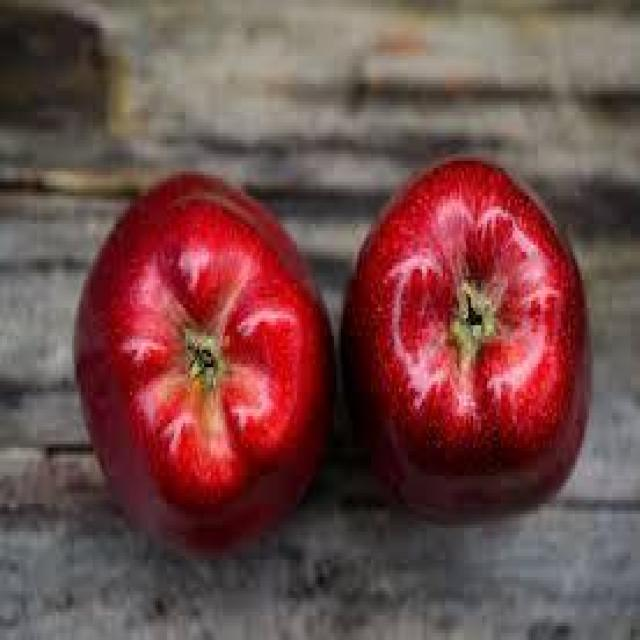maca: (72, 168, 336, 559), (338, 154, 592, 517)
